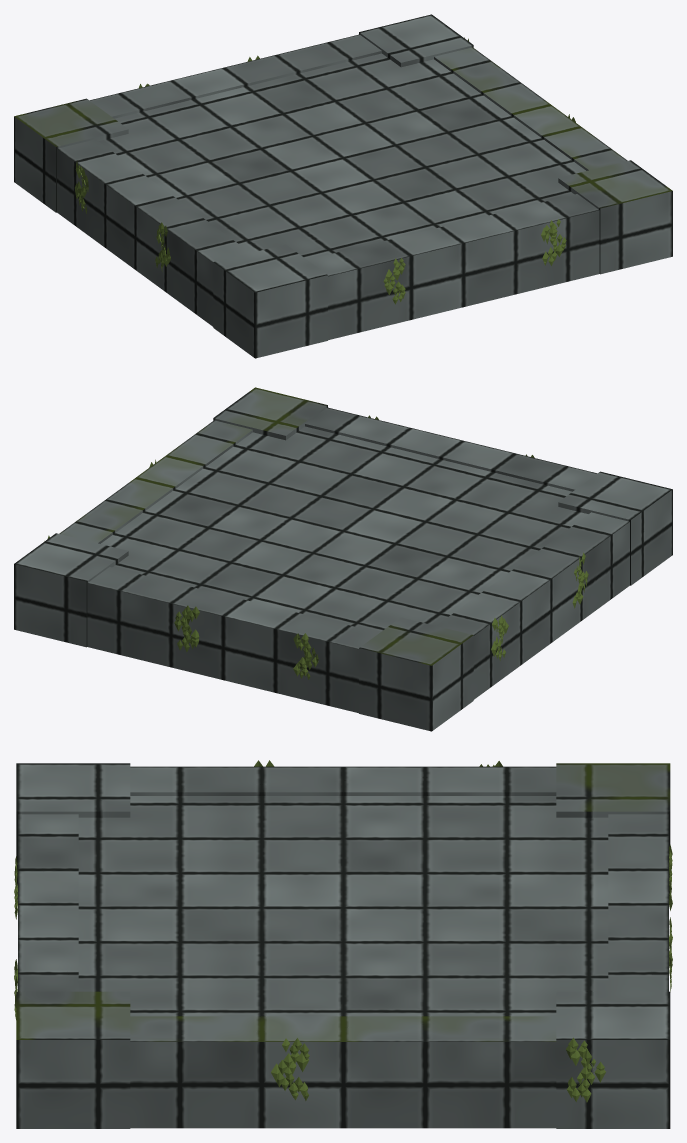
The model's file is Platform.fbx.
3 views of the same model, one above another, from view 1: azimuth 30°, elevation 25°; view 2: azimuth 150°, elevation 25°; view 3: azimuth 270°, elevation 25° (orthographic). The views are drawn at different scales.
Visible parts, largest first — view 1: Platform.002; view 2: Platform.002; view 3: Platform.002.
Part boxes in pixels (x1=…): Platform.002: x1=14, y1=14, x2=672, y2=358; Platform.002: x1=14, y1=387, x2=672, y2=731; Platform.002: x1=14, y1=760, x2=672, y2=1128.
Size of the model in its own units: 4.46 by 0.6903 by 4.45.
Materials: 3 (2 with a texture image).
